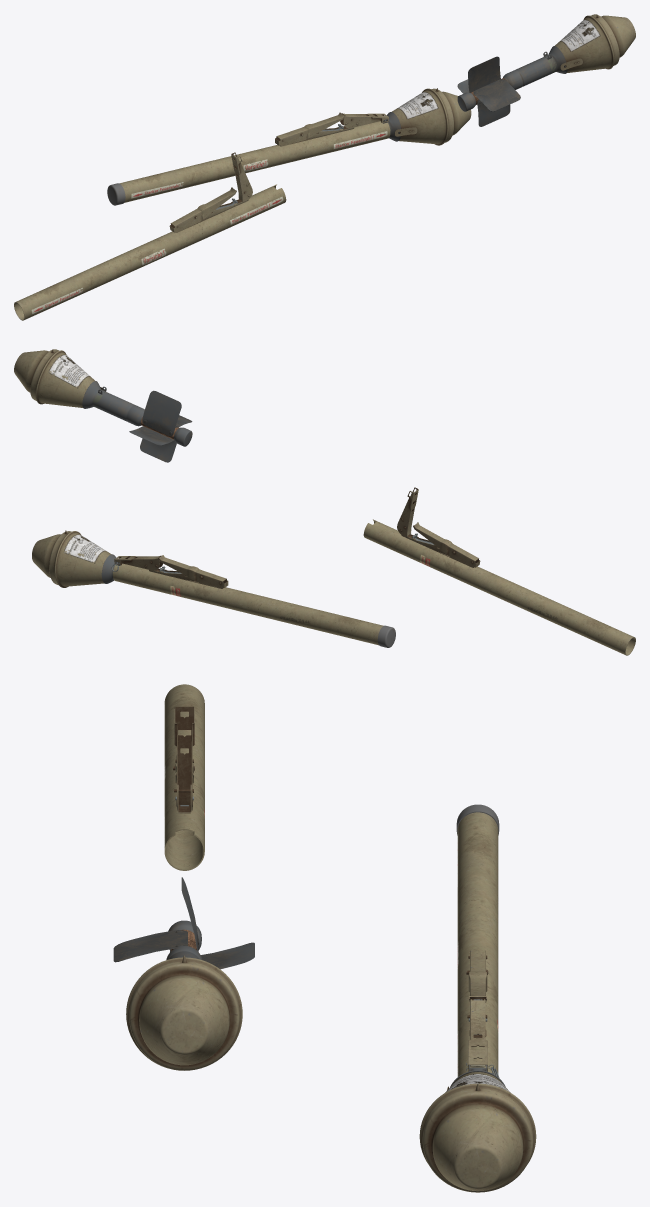
Rendered from panzerfaust.fbx.
3 renders of one model, top to bottom at view 1: azimuth 30°, elevation 25°; view 2: azimuth 150°, elevation 25°; view 3: azimuth 270°, elevation 25°, orthographic. The views are drawn at different scales.
Visible parts, largest first — view 1: patrone2, tube, tube1, patrone, d22, d2, d33, d3; view 2: patrone2, tube, tube1, patrone, d22, d2, d33, d3; view 3: patrone2, patrone, tube1, tube, d33, d3, d2.
Part boxes in pixels (x1=…): patrone2: x1=457, y1=14, x2=635, y2=126; tube: x1=14, y1=184, x2=286, y2=320; tube1: x1=119, y1=121, x2=390, y2=202; patrone: x1=381, y1=88, x2=471, y2=145; d22: x1=169, y1=187, x2=236, y2=232; d2: x1=275, y1=112, x2=345, y2=146; d33: x1=231, y1=152, x2=252, y2=201; d3: x1=340, y1=113, x2=388, y2=128; patrone2: x1=14, y1=349, x2=192, y2=462; tube: x1=363, y1=519, x2=635, y2=655; tube1: x1=113, y1=563, x2=383, y2=645; patrone: x1=32, y1=530, x2=122, y2=587; d22: x1=413, y1=522, x2=480, y2=567; d2: x1=158, y1=555, x2=228, y2=588; d33: x1=397, y1=487, x2=418, y2=536; d3: x1=114, y1=555, x2=163, y2=570; patrone2: x1=113, y1=877, x2=254, y2=1070; patrone: x1=419, y1=1065, x2=536, y2=1192; tube1: x1=457, y1=812, x2=498, y2=1076; tube: x1=164, y1=684, x2=204, y2=870; d33: x1=174, y1=706, x2=194, y2=810; d3: x1=467, y1=999, x2=487, y2=1071; d2: x1=466, y1=950, x2=488, y2=1002.
Size of the model in its own units: 1520 by 390 by 453.
